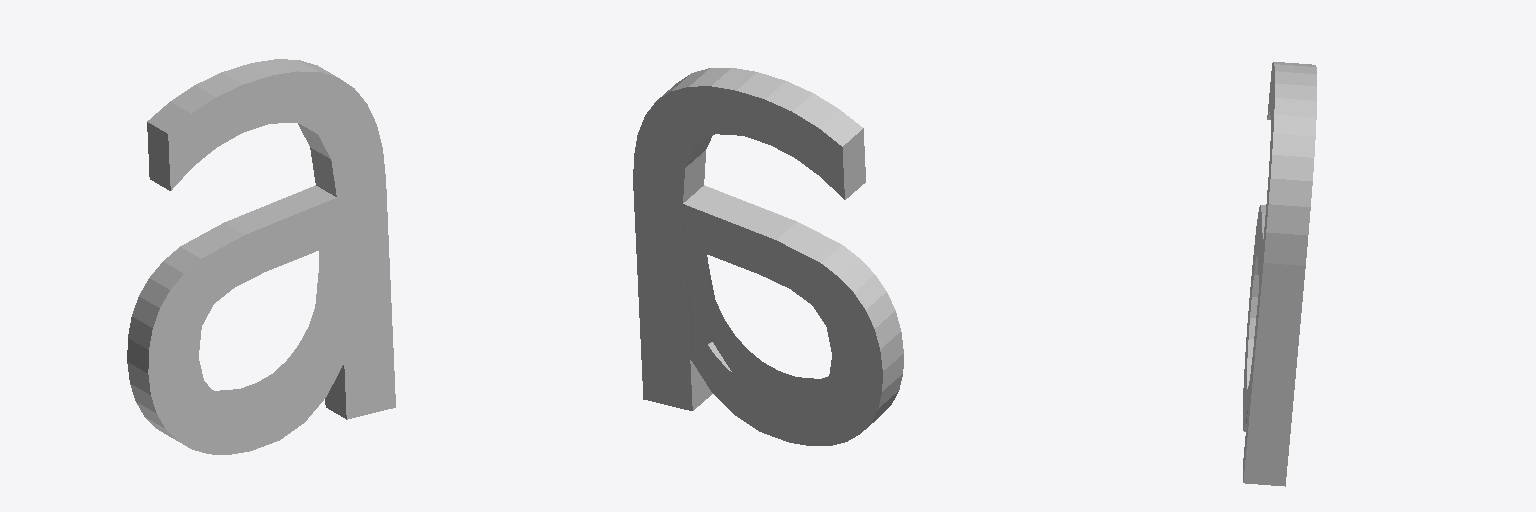
Rendered from original-241.obj.
3 renders of one model, left to right at view 1: azimuth 30°, elevation 25°; view 2: azimuth 150°, elevation 25°; view 3: azimuth 270°, elevation 25°, orthographic.
Visible parts, largest first — view 1: #ID1387; view 2: #ID1387; view 3: #ID1387.
Part boxes in pixels (x1,y1,x2,y2): #ID1387: (127,59,395,454); #ID1387: (633,68,903,445); #ID1387: (1243,62,1316,486).
Bounding box in the file's own units: 0.0053 × 0.0075 × 0.0014.